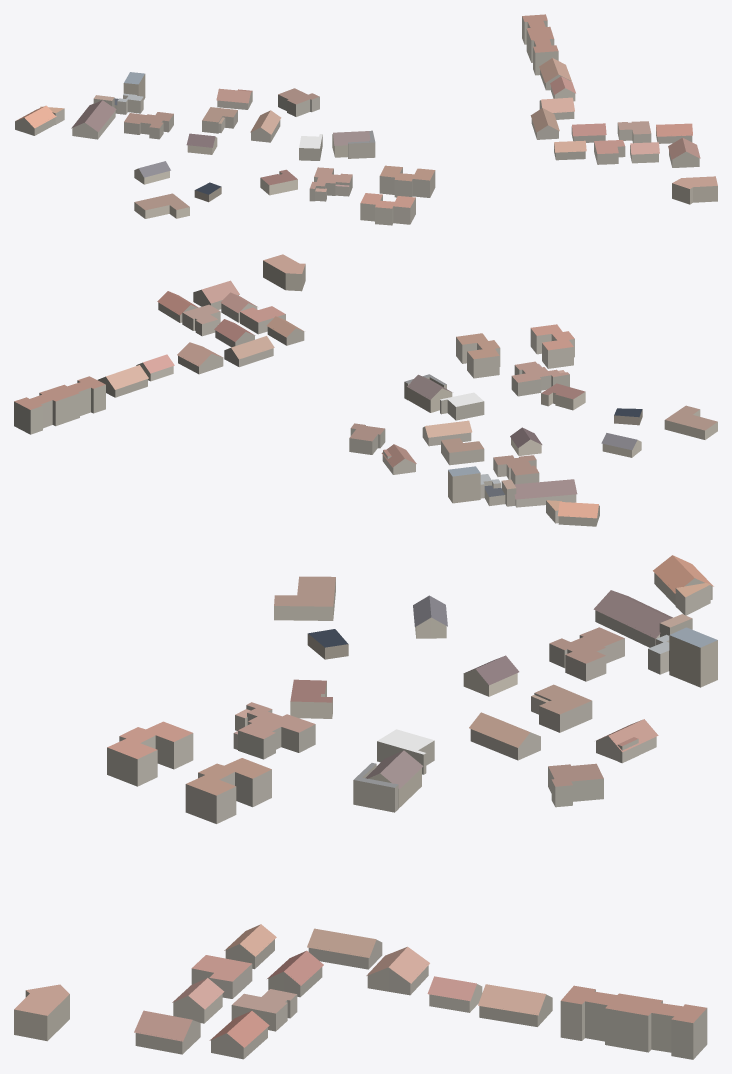
3 views of the same model, one above another, from view 1: azimuth 30°, elevation 25°; view 2: azimuth 150°, elevation 25°; view 3: azimuth 270°, elevation 25° (orthographic). The views are drawn at different scales.
Parts seen in each view (by area): view 1: tuile; view 2: tuile; view 3: tuile.
Boxes of the visible parts, x1,y1,x2,y2 form: tuile: (15,14,717,225); tuile: (14,254,717,526); tuile: (14,555,717,1059).
Bounding box in the file's own units: 266 × 29.08 × 185.
